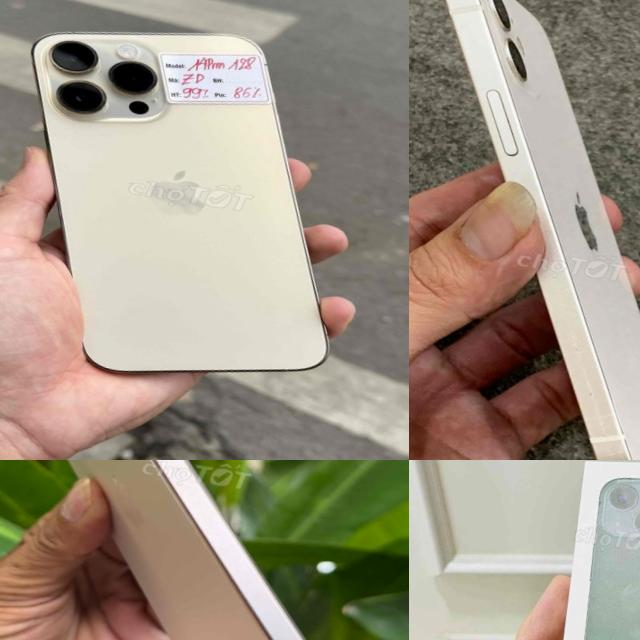gen_12_13: (409, 0, 640, 460)
gen_14: (0, 0, 388, 401)
gen_16: (68, 460, 305, 640)
